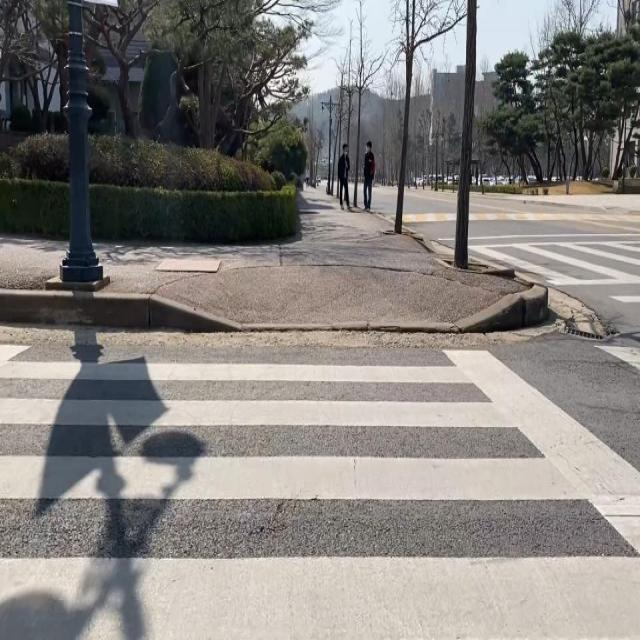sidewalk: (94, 191, 524, 322), (0, 234, 66, 287)
